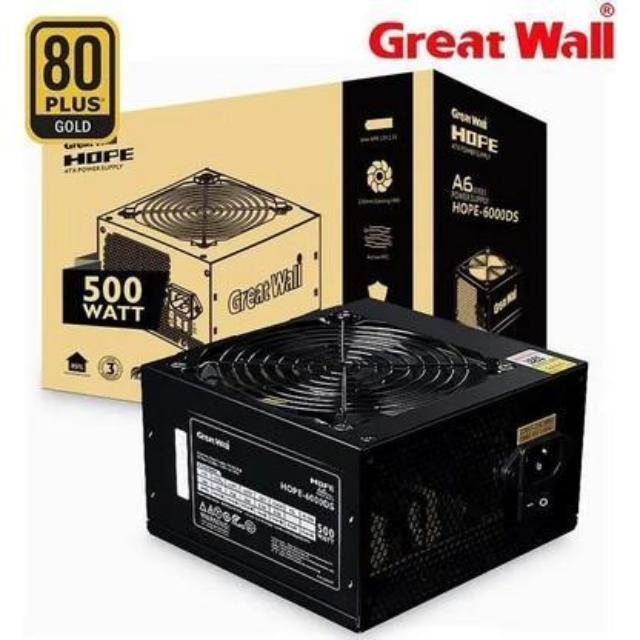PSU: (113, 288, 610, 640)
